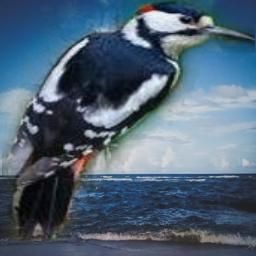Woodpecker: (2, 0, 255, 241)
